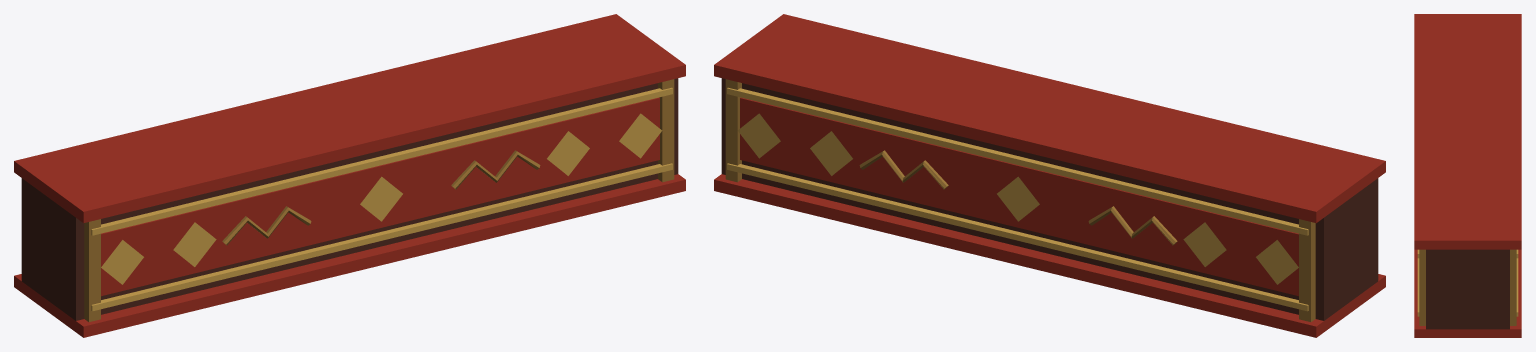
The model's file is liangfang5.glb.
The picture shows the model from 3 angles, left to right: view 1: azimuth 30°, elevation 25°; view 2: azimuth 150°, elevation 25°; view 3: azimuth 270°, elevation 25°; orthographic projection. The views are drawn at different scales.
Visible parts, largest first — view 1: liangfang5; view 2: liangfang5; view 3: liangfang5.
Boxes of the visible parts, bbox=[...] form: liangfang5: bbox=[14, 14, 685, 337]; liangfang5: bbox=[714, 14, 1385, 337]; liangfang5: bbox=[1414, 14, 1521, 337].
Size of the model in its own units: 5 by 1 by 1.
